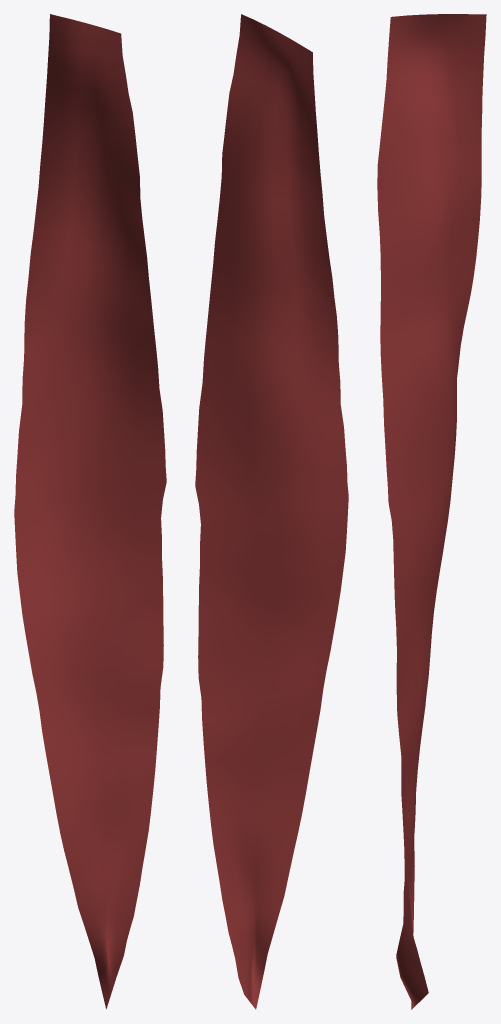
Rendered from lateral-femoral-intermuscular-septum-r.glb.
The picture shows the model from 3 angles, left to right: view 1: azimuth 30°, elevation 25°; view 2: azimuth 210°, elevation 25°; view 3: azimuth 270°, elevation 25°; orthographic projection.
Visible parts, largest first — view 1: Lateral femoral intermuscular septum.r; view 2: Lateral femoral intermuscular septum.r; view 3: Lateral femoral intermuscular septum.r.
Part boxes in pixels (<box>): Lateral femoral intermuscular septum.r: <box>14,14,166,1009</box>; Lateral femoral intermuscular septum.r: <box>195,14,348,1009</box>; Lateral femoral intermuscular septum.r: <box>377,14,486,1009</box>.
Bounding box in the file's own units: 0.0359 × 0.2674 × 0.0266.
